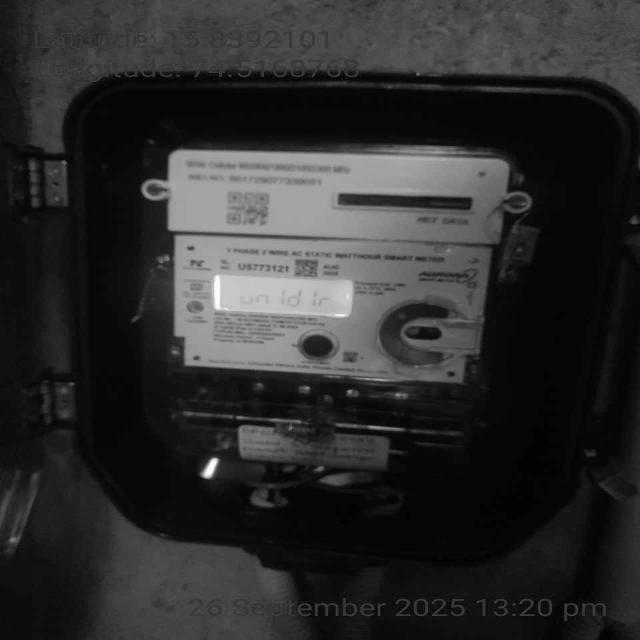meter: (169, 152, 514, 386)
